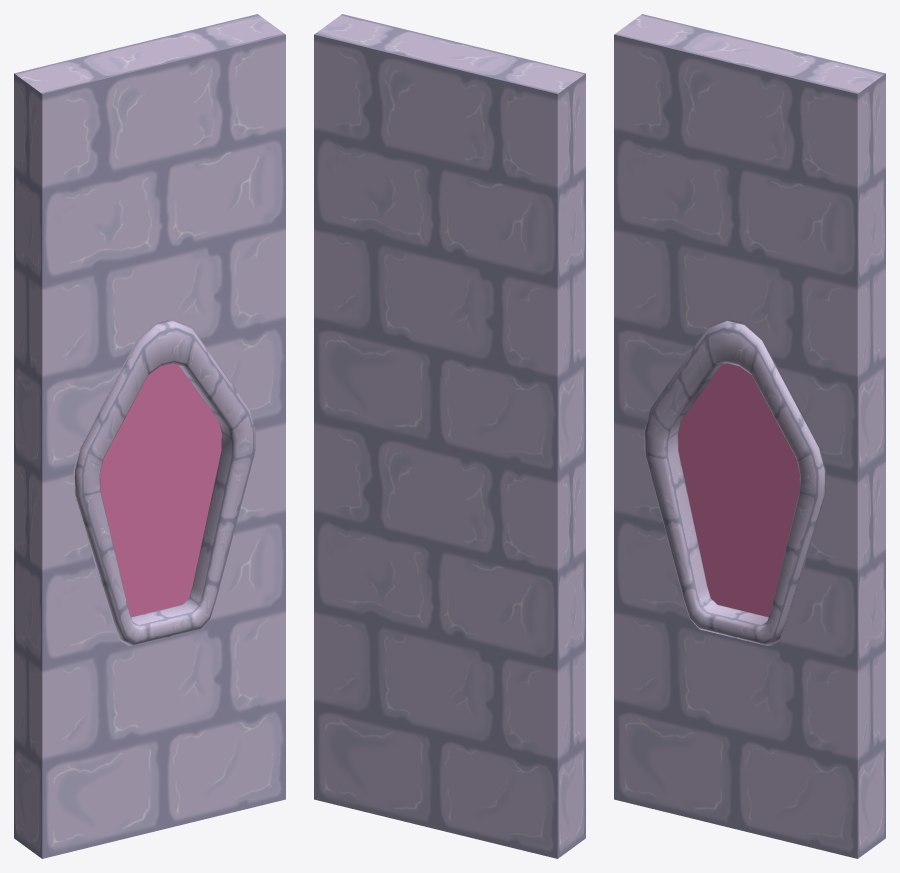
File: SM_WindowWall.fbx
The picture shows the model from 3 angles, left to right: view 1: azimuth 30°, elevation 25°; view 2: azimuth 150°, elevation 25°; view 3: azimuth 330°, elevation 25°; orthographic projection.
Visible parts, largest first — view 1: SM_WindowWall; view 2: SM_WindowWall; view 3: SM_WindowWall.
Boxes of the visible parts, x1=… form: SM_WindowWall: x1=14, y1=14, x2=285, y2=858; SM_WindowWall: x1=314, y1=14, x2=585, y2=858; SM_WindowWall: x1=614, y1=14, x2=885, y2=858.
Size of the model in its own units: 2 by 0.4607 by 6.
